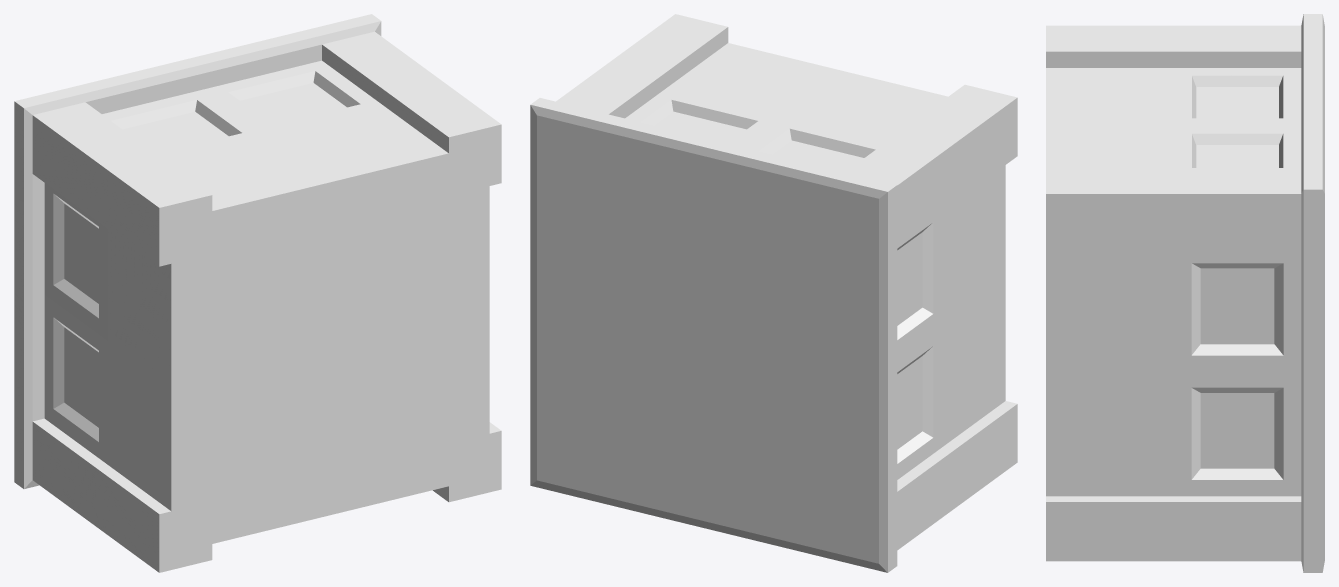
The model's file is venice_building_11.fbx.
3 views of the same model, side by side, from view 1: azimuth 30°, elevation 25°; view 2: azimuth 150°, elevation 25°; view 3: azimuth 270°, elevation 25° (orthographic).
Visible parts, largest first — view 1: Cube.327; view 2: Cube.327; view 3: Cube.327.
Part boxes in pixels (x1,y1,x2,y2): Cube.327: (14,14,501,572); Cube.327: (530,14,1017,572); Cube.327: (1046,14,1324,572).
Bounding box in the file's own units: 540 × 550 × 362.
